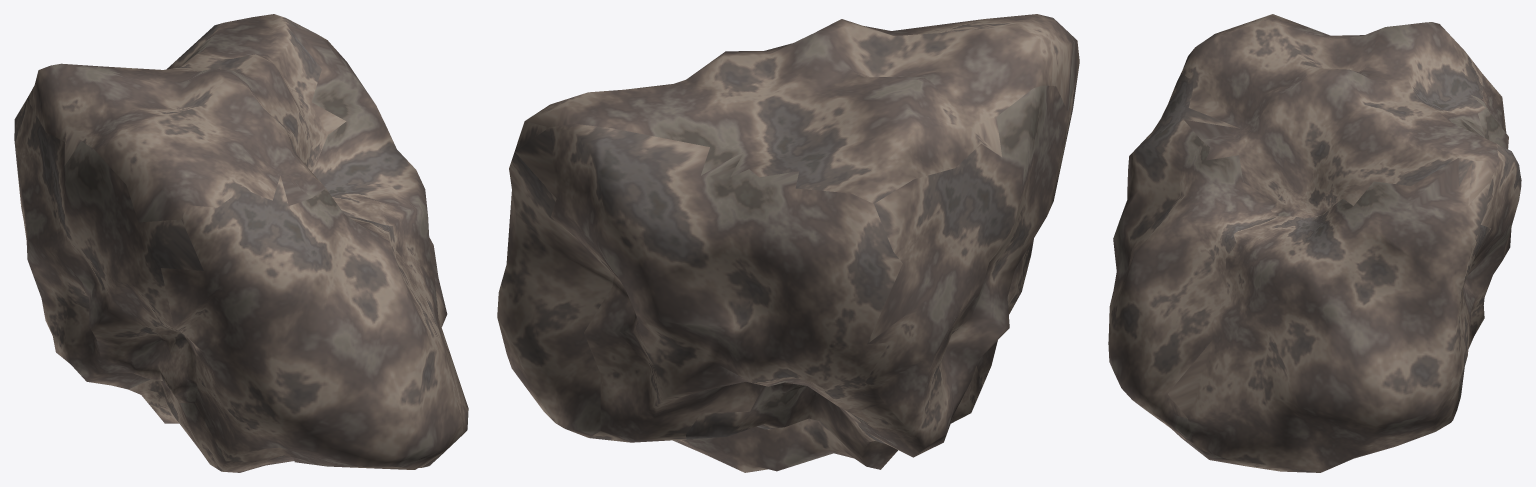
The model's file is boulder4.fbx.
3 views of the same model, side by side, from view 1: azimuth 30°, elevation 25°; view 2: azimuth 150°, elevation 25°; view 3: azimuth 270°, elevation 25° (orthographic). The views are drawn at different scales.
Parts seen in each view (by area): view 1: boulder; view 2: boulder; view 3: boulder.
Boxes of the visible parts, bbox=[...] form: boulder: bbox=[14, 14, 468, 472]; boulder: bbox=[497, 14, 1079, 472]; boulder: bbox=[1108, 14, 1521, 472].
Size of the model in its own units: 108 by 103 by 112.
1 material, 1 textured.
